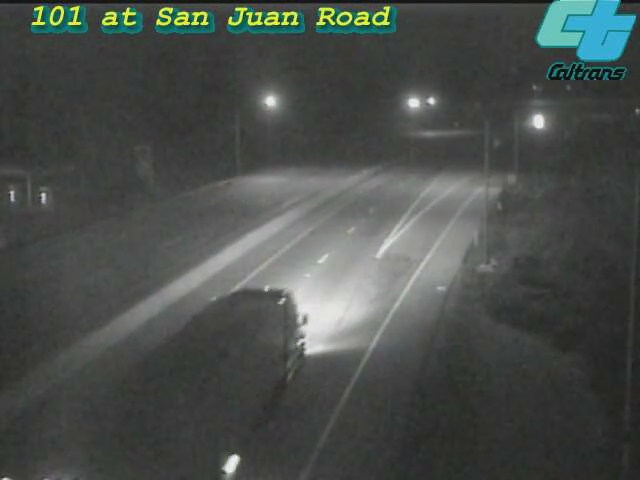vehicle: (192, 289, 302, 399), (514, 97, 564, 147)
